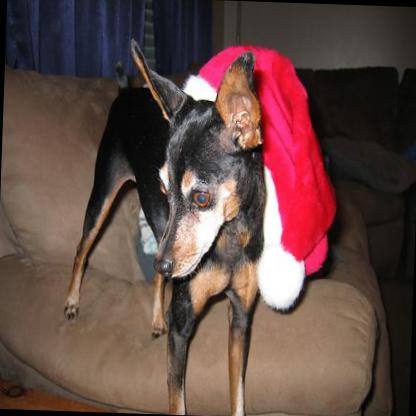miniature_pinscher: (56, 32, 272, 416)
